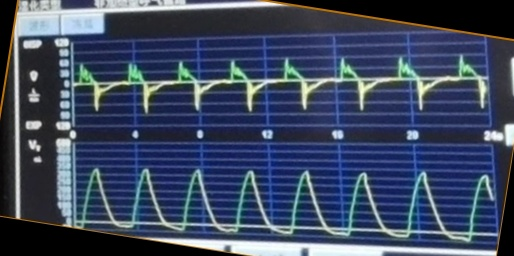Accumulation Flow: (73, 51, 487, 118)
Volume: (77, 164, 494, 241)
